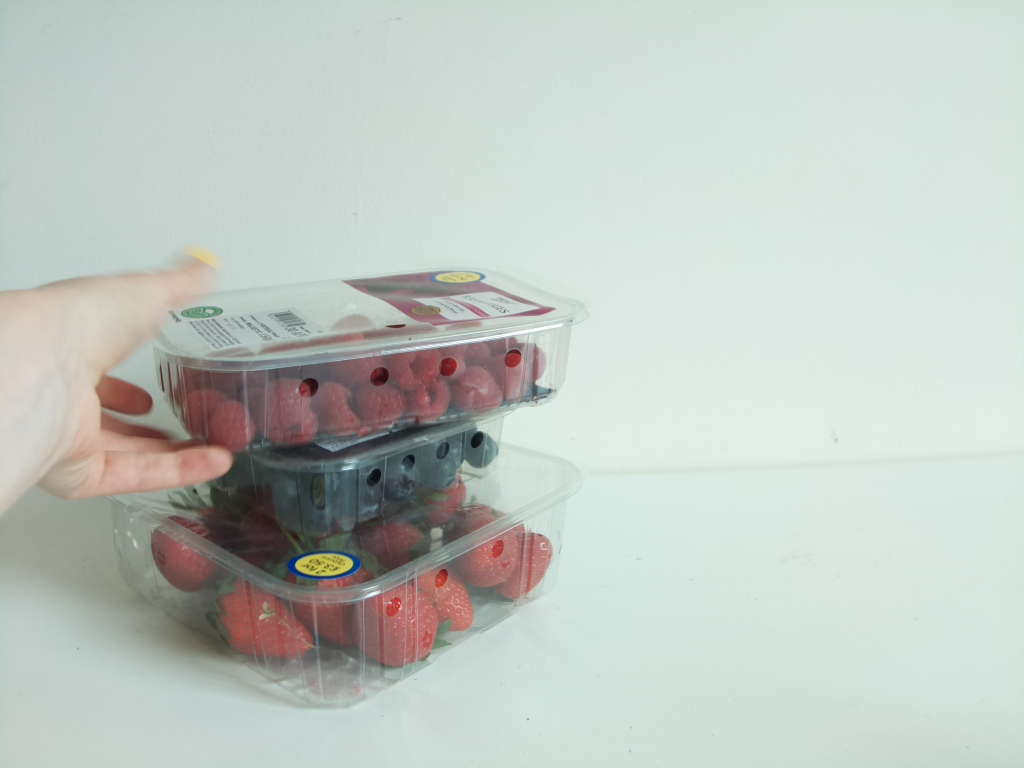soft-fruit: (112, 431, 596, 705), (138, 268, 584, 454), (198, 410, 498, 538)
